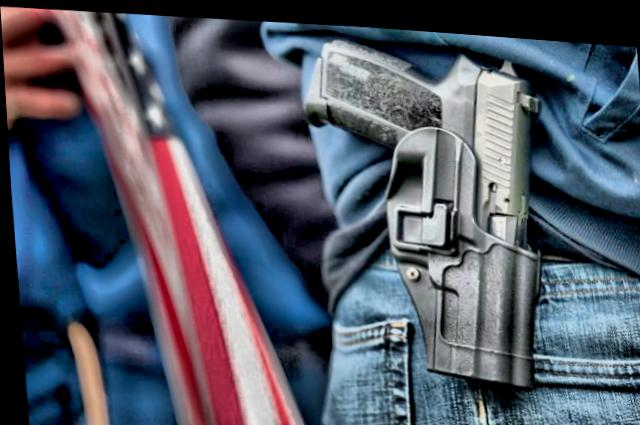pistol: (293, 25, 570, 400)
